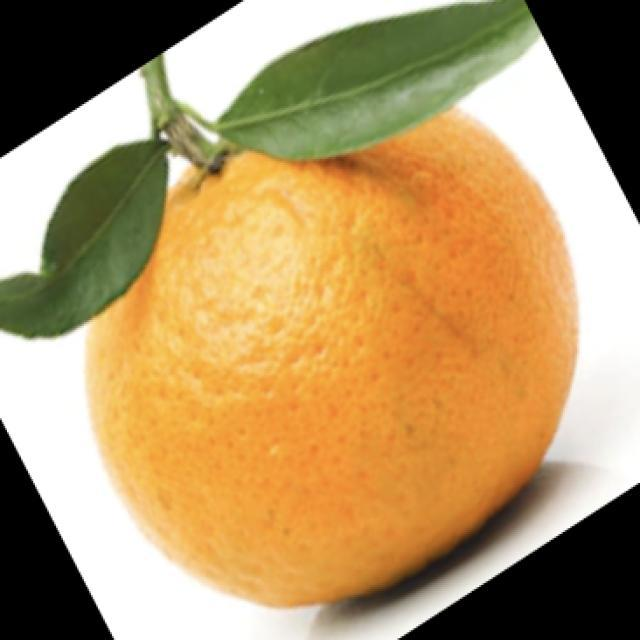matang: (0, 0, 577, 605)
